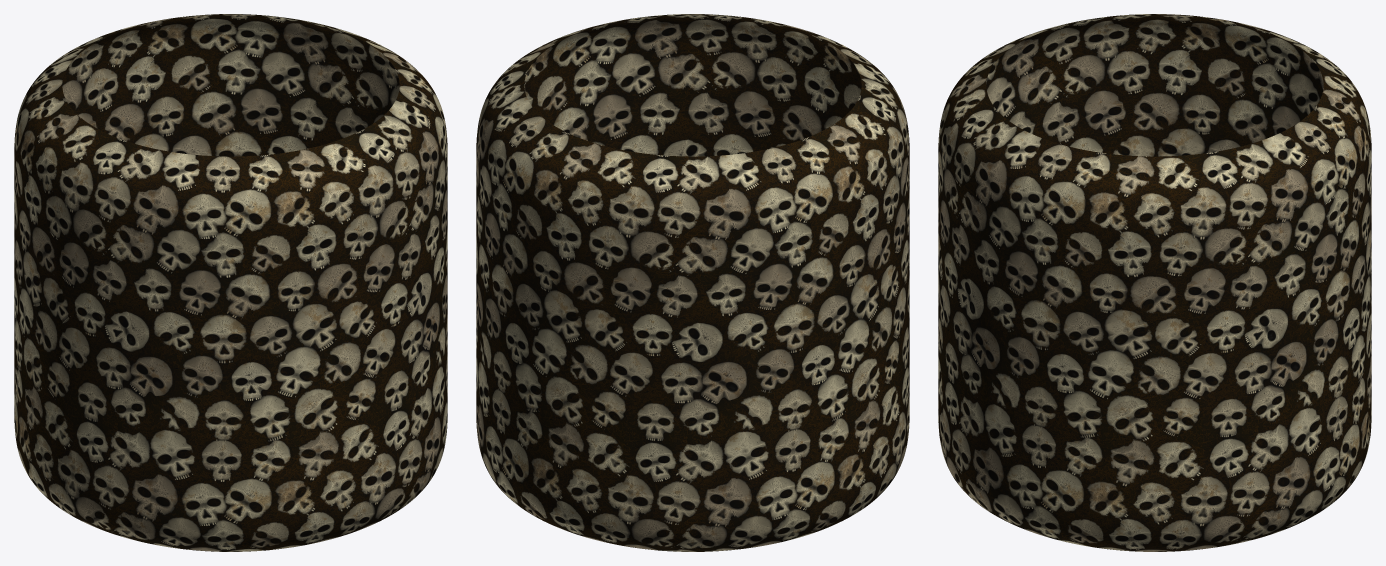
File: skulls_wall__tile_texture.glb
The picture shows the model from 3 angles, left to right: view 1: azimuth 30°, elevation 25°; view 2: azimuth 150°, elevation 25°; view 3: azimuth 270°, elevation 25°; orthographic projection.
Visible parts, largest first — view 1: Cylinder; view 2: Cylinder; view 3: Cylinder.
Part boxes in pixels (x1,y1,x2,y2): Cylinder: (14,14,447,551); Cylinder: (476,14,909,551); Cylinder: (938,14,1371,551).
Bounding box in the file's own units: 1.99 × 2 × 1.99.
1 material, 1 textured.
